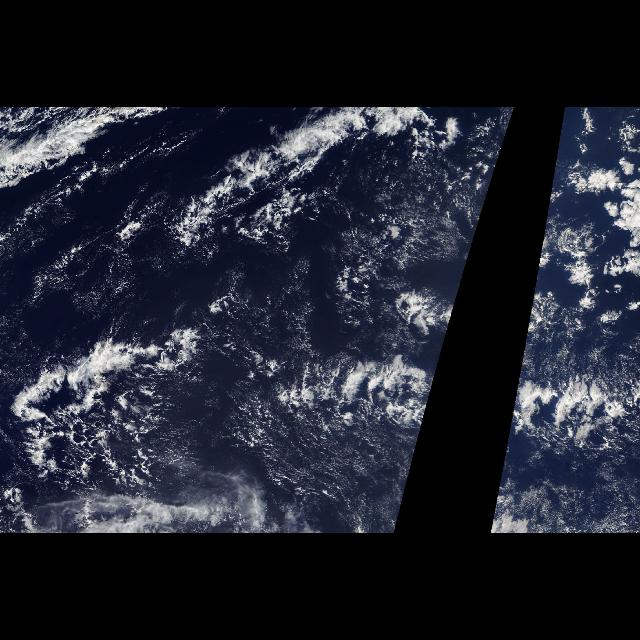Gravel: (12, 284, 250, 502)
Sugar: (205, 404, 398, 522)
